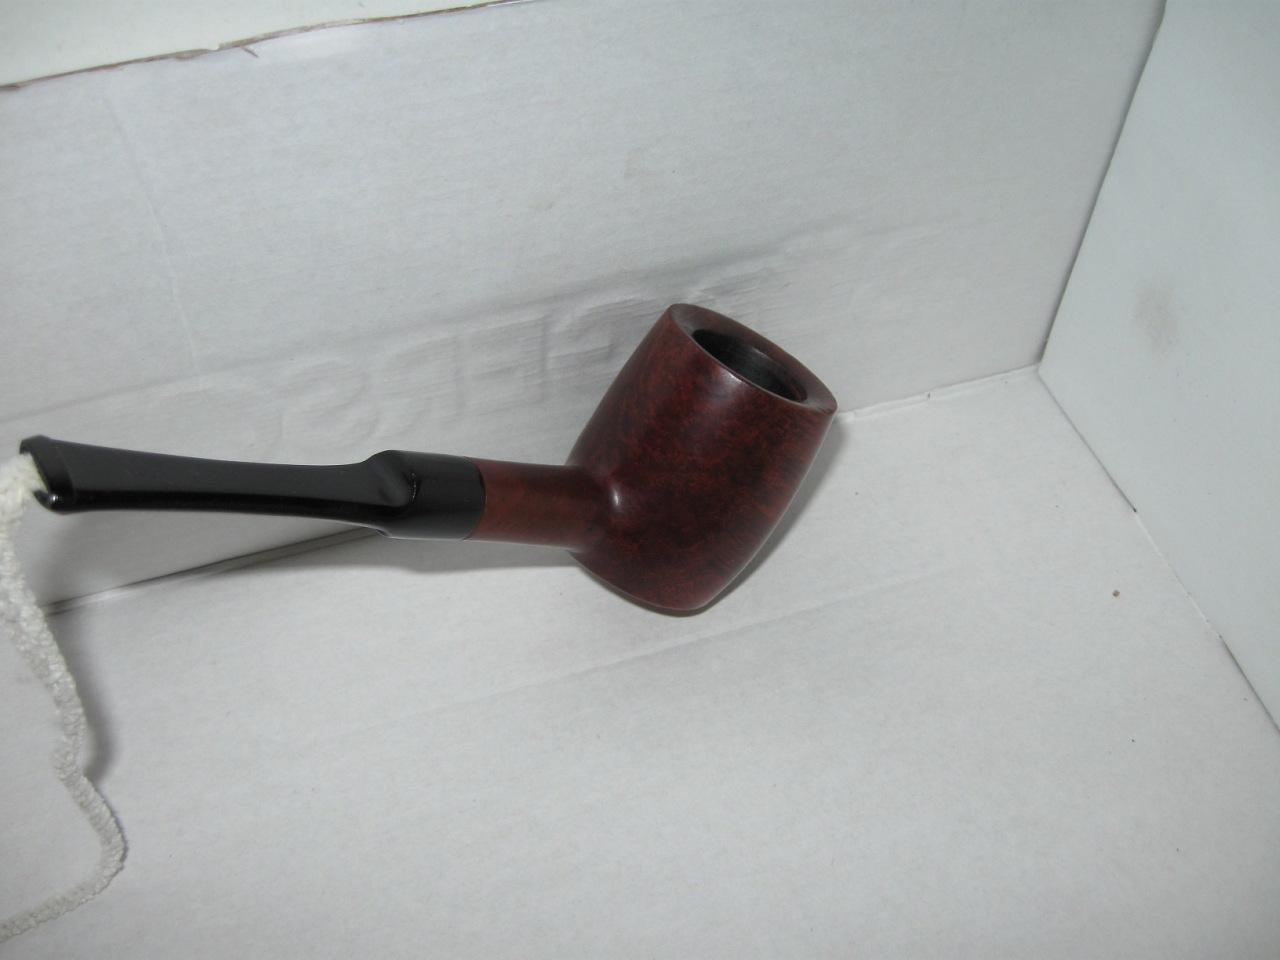trubka: (22, 304, 835, 614)
